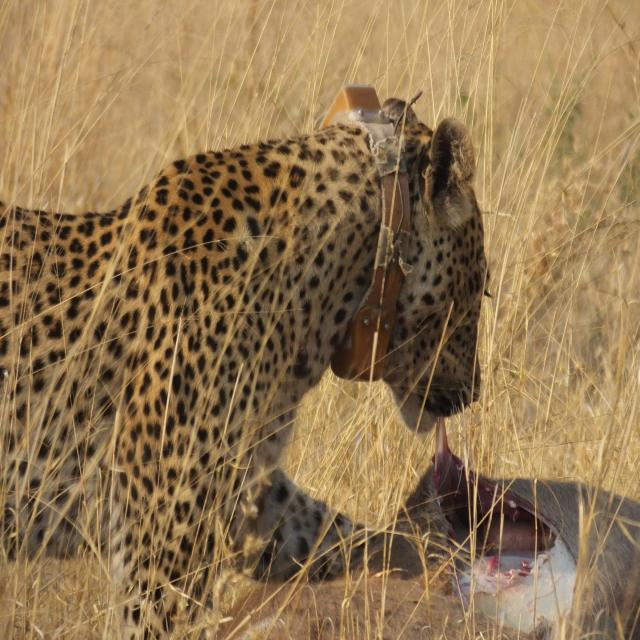Leopard: (1, 59, 460, 640)
